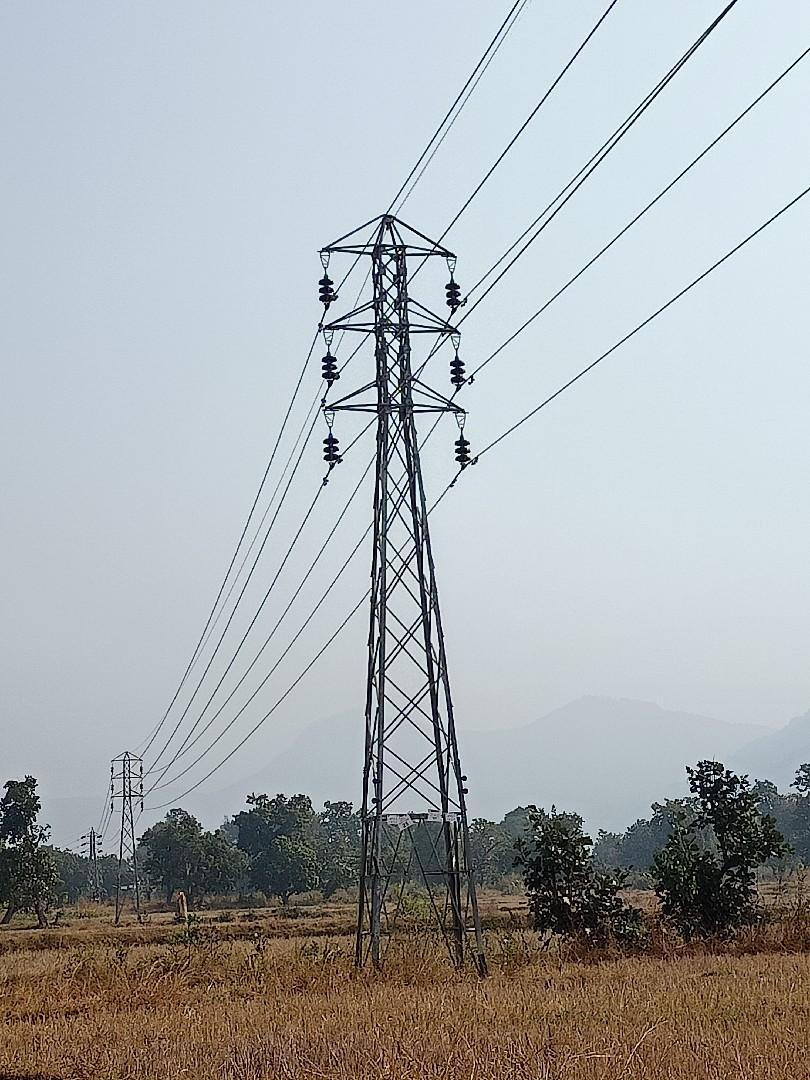GSM Antenna: (307, 204, 489, 928)
